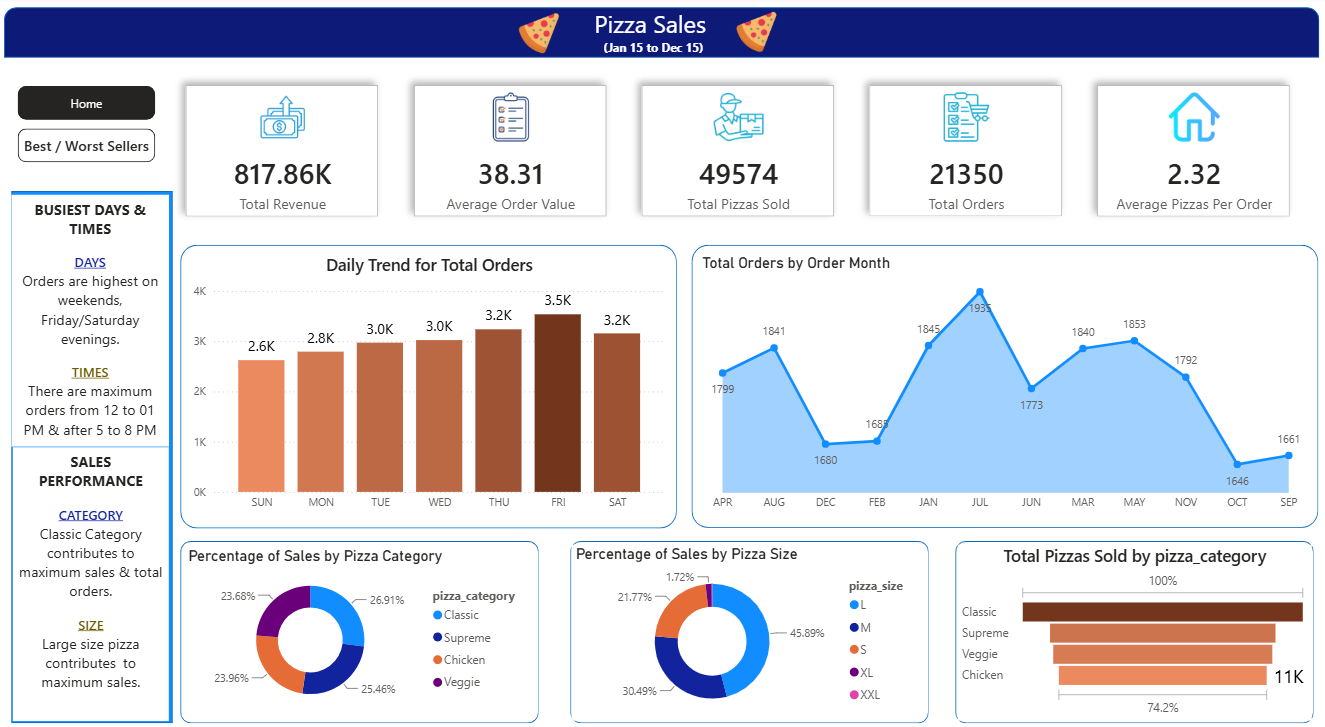

What the dashboard file says about the page in this screenshot:
{"tool":"powerbi","page":{"name":"Home","canvas":[1500,830],"ordinal":0},"visuals":[{"type":"cardVisual","fields":{"Data":["pizza_sales.Total Revenue","pizza_sales.Average Order Value","pizza_sales.Total Pizzas Sold","pizza_sales.Total Orders","pizza_sales.Average Pizzas Per Order"]},"box":[177.4,67.8,1311.3,214.9],"z":0},{"type":"group","id":"g1","title":"Group 1","box":[5.1,8.5,1483.4,69.7],"z":1000},{"type":"shape","box":[5.1,12.8,1483.4,56.9],"z":1500,"group":"g1"},{"type":"textbox","box":[629,8.5,215.7,69.7],"z":2000,"group":"g1"},{"type":"shape","box":[204.4,279.8,560,320],"z":2000},{"type":"image","box":[564.9,18.6,87.2,47.4],"z":3000,"group":"g1"},{"type":"columnChart","title":"Daily Trend for Total Orders","fields":{"Category":["pizza_sales.order day"],"Y":["pizza_sales.Total Orders"]},"box":[214.1,290.6,542,299],"z":3000},{"type":"image","box":[809.6,17.2,87.2,47.4],"z":4000,"group":"g1"},{"type":"shape","box":[781.6,280.4,706.8,319.4],"z":4000},{"type":"areaChart","fields":{"Y":["pizza_sales.Total Orders"],"Category":["pizza_sales.Order Month"]},"box":[788.4,290.6,695,299],"z":5000},{"type":"shape","box":[203.9,615.1,404.4,205.6],"z":6000},{"type":"shape","box":[644,615.1,404.4,205.6],"z":7000},{"type":"shape","box":[1079,615.1,404.4,205.6],"z":8000},{"type":"donutChart","title":"Percentage of Sales by Pizza Category","fields":{"Category":["pizza_sales.pizza_category"],"Y":["pizza_sales.Total Revenue"]},"box":[209,621.9,394.2,190.3],"z":9000},{"type":"donutChart","title":"Percentage of Sales by Pizza Size","fields":{"Y":["pizza_sales.Total Revenue"],"Category":["pizza_sales.pizza_size"]},"box":[645.7,618.5,397.6,198.8],"z":10000},{"type":"funnel","fields":{"Category":["pizza_sales.pizza_category"],"Y":["pizza_sales.Total Pizzas Sold"]},"box":[1080.7,618.5,399.3,198.8],"z":11000},{"type":"pageNavigator","box":[21.6,101,155.8,86.6],"z":12000},{"type":"shape","box":[13.6,220.5,181.8,600.1],"z":12001},{"type":"textbox","box":[15.9,509.2,176,308.7],"z":12002},{"type":"textbox","box":[14.4,223.6,177.4,284.2],"z":12003}]}

Visuals, with their boxes in screenshot pixels (x1, y1, x2, y2), scaled from the page's 1500x830 canvas onto the 1325x727 screenshot:
cardVisual - pizza_sales.Total Revenue x pizza_sales.Average Order Value: bbox(157, 59, 1315, 248)
"Group 1" group: bbox(5, 7, 1315, 68)
shape: bbox(5, 11, 1315, 61)
textbox: bbox(556, 7, 746, 68)
shape: bbox(181, 245, 675, 525)
image: bbox(499, 16, 576, 58)
"Daily Trend for Total Orders" columnChart: bbox(189, 255, 668, 516)
image: bbox(715, 15, 792, 57)
shape: bbox(690, 246, 1315, 525)
areaChart - pizza_sales.Total Orders x pizza_sales.Order Month: bbox(696, 255, 1310, 516)
shape: bbox(180, 539, 537, 719)
shape: bbox(569, 539, 926, 719)
shape: bbox(953, 539, 1310, 719)
"Percentage of Sales by Pizza Category" donutChart: bbox(185, 545, 533, 711)
"Percentage of Sales by Pizza Size" donutChart: bbox(570, 542, 922, 716)
funnel - pizza_sales.pizza_category x pizza_sales.Total Pizzas Sold: bbox(955, 542, 1307, 716)
pageNavigator: bbox(19, 88, 157, 164)
shape: bbox(12, 193, 173, 719)
textbox: bbox(14, 446, 170, 716)
textbox: bbox(13, 196, 169, 445)
